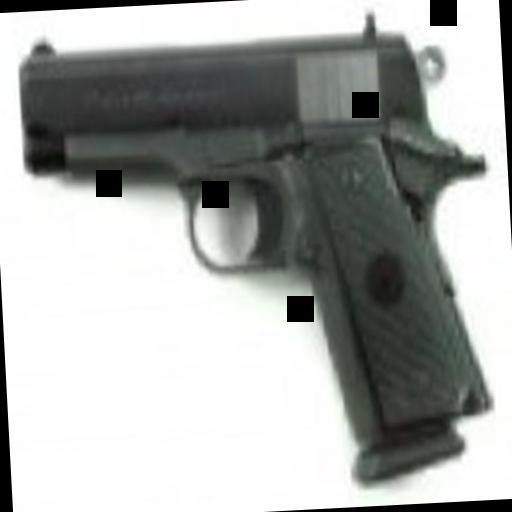Handgun: (12, 8, 507, 505)
